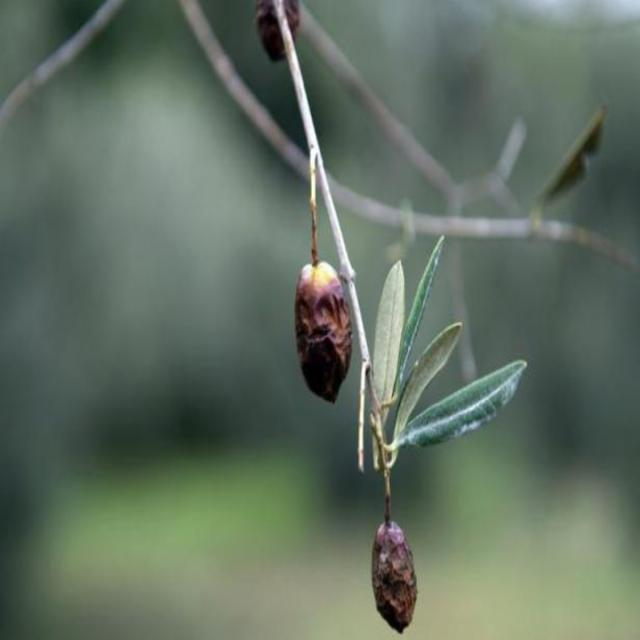Anthracnose: (294, 260, 352, 401), (372, 516, 418, 634)
